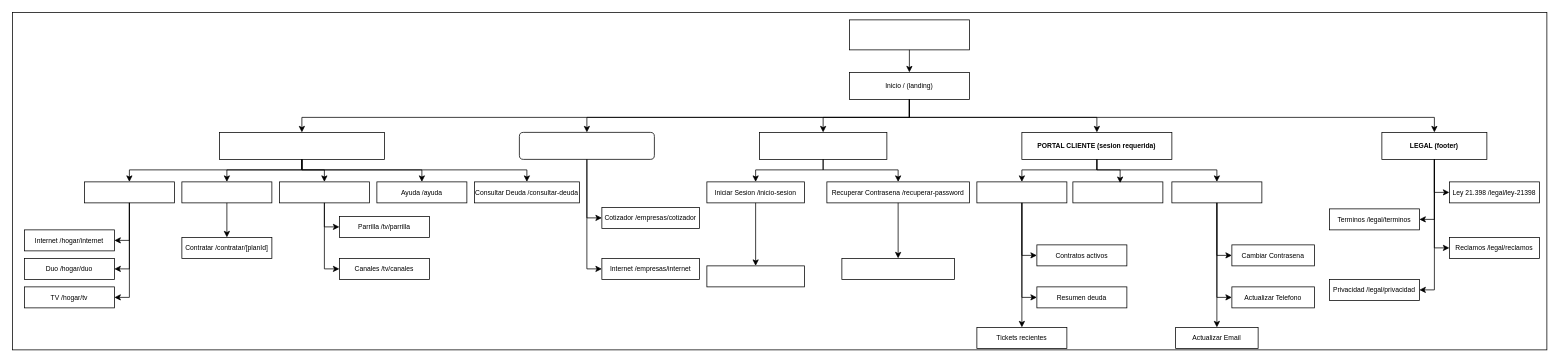
Some shapes in this 1559 by 362 pixel diagram are drawn without their labels. The centre of each missing label's shape, as x and y in pixels:
"ACCESO PUBLICO (navbar)" belongs at point (301, 145).
"AUTENTICACION" belongs at point (823, 145).
"EMPRESAS (audience switch)" belongs at point (586, 145).
"Hogar /hogar" belongs at point (129, 192).
"Mi Perfil /perfil" belongs at point (1216, 192).
"Panel /portal" belongs at point (1021, 192).
"Planes /planes" belongs at point (226, 192).
"Plataforma FINET" belongs at point (909, 34).
"redirige a /portal" belongs at point (755, 276).
"Restablecer /restablecer-password" belongs at point (897, 268).
"Tickets /portal/tickets" belongs at point (1117, 192).
"TV /tv" belongs at point (324, 192).
